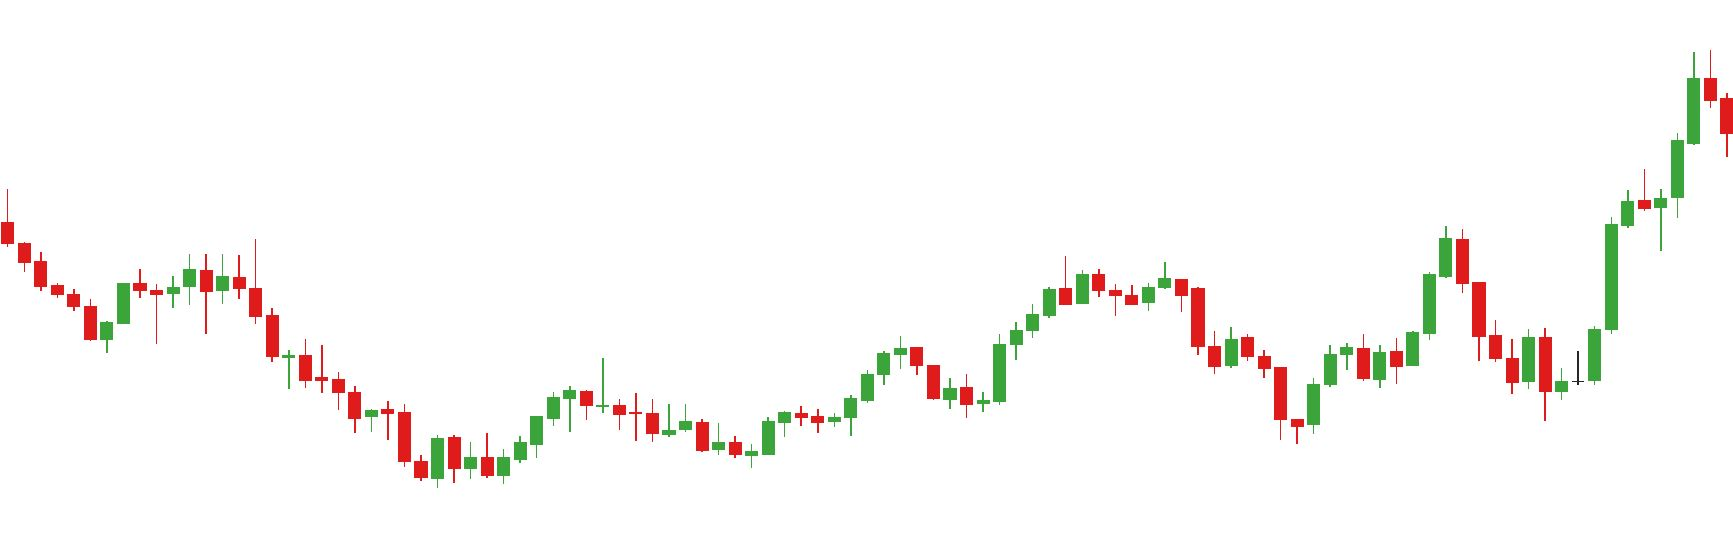buy: (1372, 299, 1537, 403)
